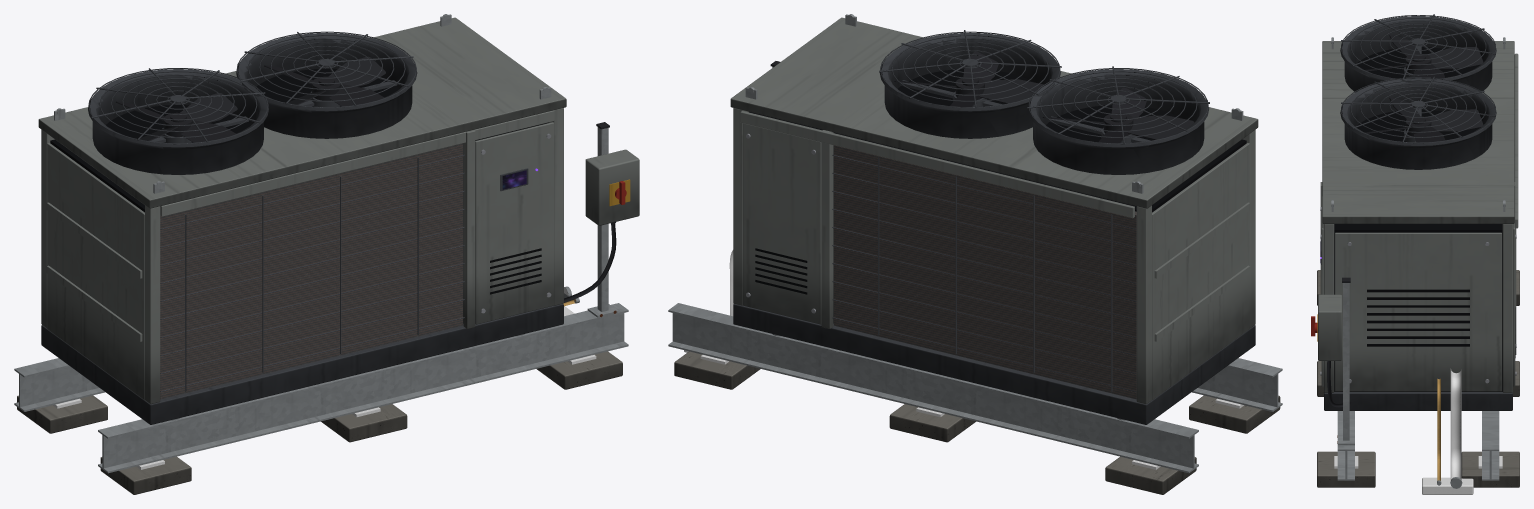
Rendered from hvac_condenser.glb.
The picture shows the model from 3 angles, left to right: view 1: azimuth 30°, elevation 25°; view 2: azimuth 150°, elevation 25°; view 3: azimuth 270°, elevation 25°; orthographic projection. The views are drawn at different scales.
Parts seen in each view (by area): view 1: coil_f_coil_fins_0, casing_powder_coat_grey_1, dunnage_steel_galvanised_7, casing_powder_coat_grey_wet_2, panel_f_powder_coat_grey_0, casing_powder_coat_graphite_0, casing_powder_coat_graphite_4, casing_powder_coat_graphite_6, coil_f_powder_coat_graphite_2, guard_2_powder_coat_graphite_0, guard_1_powder_coat_graphite_0, isolator_powder_coat_grey_0 (+10 smaller); view 2: coil_b_coil_fins_0, casing_powder_coat_grey_1, dunnage_steel_galvanised_7, casing_powder_coat_grey_wet_2, panel_b_powder_coat_grey_0, casing_powder_coat_graphite_0, casing_powder_coat_graphite_4, casing_powder_coat_graphite_6, coil_b_powder_coat_graphite_2, guard_2_powder_coat_graphite_0, guard_1_powder_coat_graphite_0, fan_1_plastic_dark_0 (+9 smaller); view 3: panel_r_powder_coat_grey_0, casing_powder_coat_grey_wet_2, casing_powder_coat_graphite_6, casing_powder_coat_graphite_4, casing_powder_coat_grey_1, dunnage_steel_galvanised_7, guard_2_powder_coat_graphite_0, casing_powder_coat_graphite_0, guard_1_powder_coat_graphite_0, panel_r_cavity_dark_2, fan_2_plastic_dark_0, fan_1_plastic_dark_0 (+11 smaller).
Boxes of the visible parts, x1,y1,x2,y2 form: coil_f_coil_fins_0: [160, 143, 462, 399]; casing_powder_coat_grey_1: [41, 108, 563, 404]; dunnage_steel_galvanised_7: [14, 127, 628, 473]; casing_powder_coat_grey_wet_2: [38, 17, 566, 208]; panel_f_powder_coat_grey_0: [475, 122, 554, 324]; casing_powder_coat_graphite_0: [41, 304, 563, 424]; casing_powder_coat_graphite_4: [88, 69, 268, 174]; casing_powder_coat_graphite_6: [236, 32, 417, 138]; coil_f_powder_coat_graphite_2: [160, 154, 464, 392]; guard_2_powder_coat_graphite_0: [236, 31, 416, 107]; guard_1_powder_coat_graphite_0: [88, 68, 268, 144]; isolator_powder_coat_grey_0: [585, 149, 639, 225]; coil_b_coil_fins_0: [834, 145, 1136, 399]; casing_powder_coat_grey_1: [733, 108, 1255, 404]; dunnage_steel_galvanised_7: [668, 66, 1282, 473]; casing_powder_coat_grey_wet_2: [730, 17, 1258, 208]; panel_b_powder_coat_grey_0: [743, 123, 821, 324]; casing_powder_coat_graphite_0: [733, 304, 1255, 424]; casing_powder_coat_graphite_4: [1028, 69, 1208, 174]; casing_powder_coat_graphite_6: [879, 32, 1060, 138]; coil_b_powder_coat_graphite_2: [832, 155, 1136, 392]; guard_2_powder_coat_graphite_0: [879, 30, 1061, 108]; guard_1_powder_coat_graphite_0: [1027, 66, 1209, 144]; fan_1_plastic_dark_0: [1042, 87, 1193, 143]; panel_r_powder_coat_grey_0: [1335, 232, 1501, 391]; casing_powder_coat_grey_wet_2: [1322, 41, 1514, 223]; casing_powder_coat_graphite_6: [1340, 78, 1496, 169]; casing_powder_coat_graphite_4: [1340, 16, 1496, 92]; casing_powder_coat_grey_1: [1320, 53, 1518, 392]; dunnage_steel_galvanised_7: [1337, 283, 1499, 480]; guard_2_powder_coat_graphite_0: [1341, 76, 1495, 143]; casing_powder_coat_graphite_0: [1324, 392, 1512, 410]; guard_1_powder_coat_graphite_0: [1341, 14, 1495, 80]; panel_r_cavity_dark_2: [1367, 289, 1469, 346]; fan_2_plastic_dark_0: [1364, 97, 1483, 142]; fan_1_plastic_dark_0: [1365, 34, 1483, 79].
Size of what is drawn, in the model's own units: 3.07 by 1.82 by 1.21.
16 materials, 14 textured.
